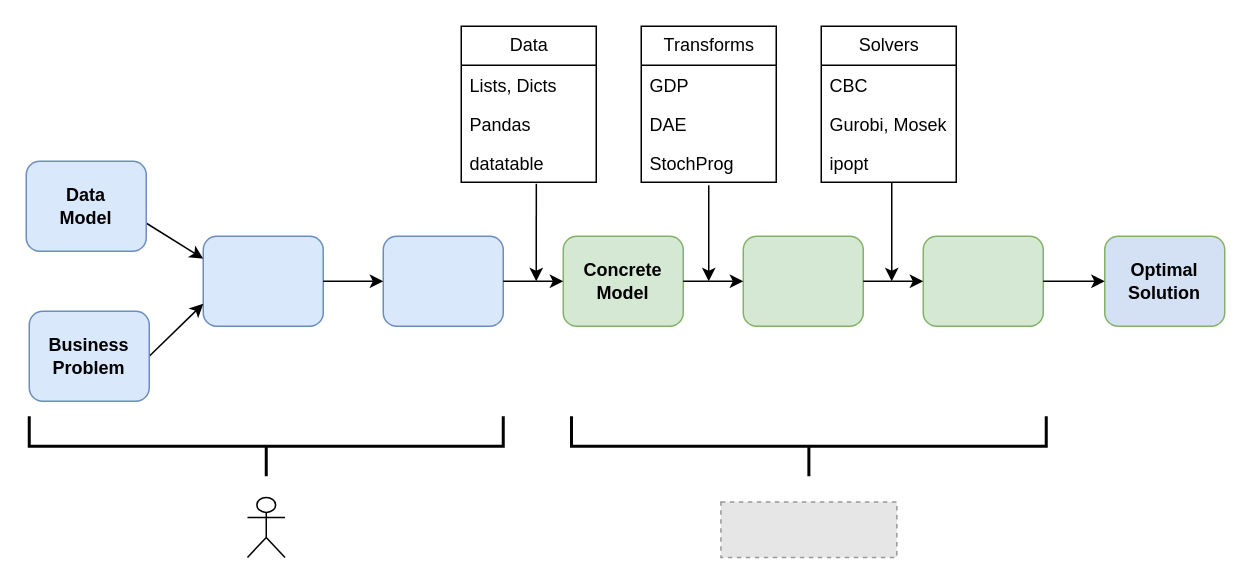
Image size: 1251x585. Some labels were removed from this diagram. Grey dashed boxes stand in for pictures. The shapes that lost their labels are listed below. From the top down, each one's centre as x and y in pixels, then its label:
At [262,280]: "Mathematical Model".
At [442,280]: "Python Code".
At [802,280]: "Solution Model".
At [982,280]: "Solved Model".
